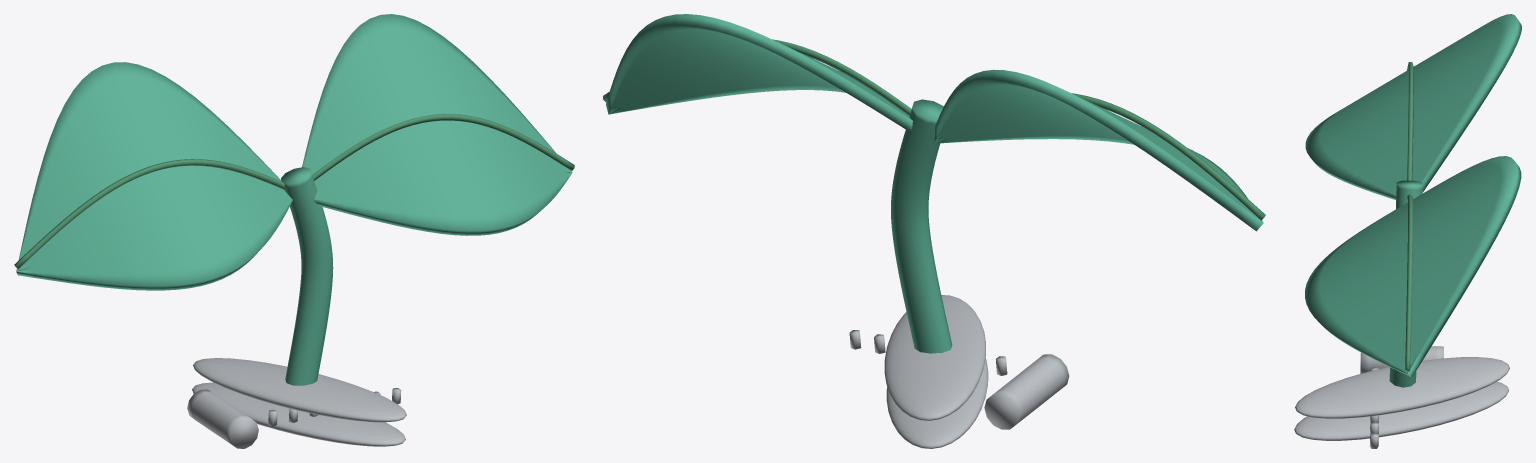
Rendered from Masculine-middle-part-pashmina249-sprout.glb.
3 views of the same model, side by side, from view 1: azimuth 30°, elevation 25°; view 2: azimuth 150°, elevation 25°; view 3: azimuth 270°, elevation 25° (orthographic). The views are drawn at different scales.
Parts seen in each view (by area): view 1: 226 extra / Accessory / mint226, 226 extra / Sprout / clip silver235, 226 extra / Sprout / leaf vein235; view 2: 226 extra / Accessory / mint226, 226 extra / Sprout / clip silver235, 226 extra / Sprout / leaf vein235; view 3: 226 extra / Accessory / mint226, 226 extra / Sprout / clip silver235, 226 extra / Sprout / leaf vein235.
Boxes of the visible parts, box(x1,y1,x2,y2) form: 226 extra / Accessory / mint226: box(16, 14, 572, 385); 226 extra / Sprout / clip silver235: box(187, 358, 406, 448); 226 extra / Sprout / leaf vein235: box(14, 114, 574, 268); 226 extra / Accessory / mint226: box(606, 14, 1263, 353); 226 extra / Sprout / clip silver235: box(849, 295, 1069, 448); 226 extra / Sprout / leaf vein235: box(603, 39, 1265, 220); 226 extra / Accessory / mint226: box(1305, 14, 1521, 387); 226 extra / Sprout / clip silver235: box(1294, 346, 1509, 448); 226 extra / Sprout / leaf vein235: box(1405, 62, 1413, 371).
Bounding box in the file's own units: 0.2711 × 0.1618 × 0.0991.
